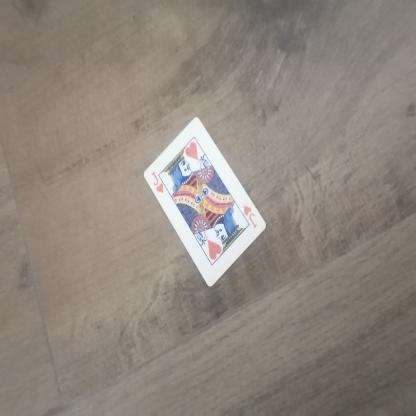JH: (237, 202, 264, 231), (148, 171, 166, 204)
